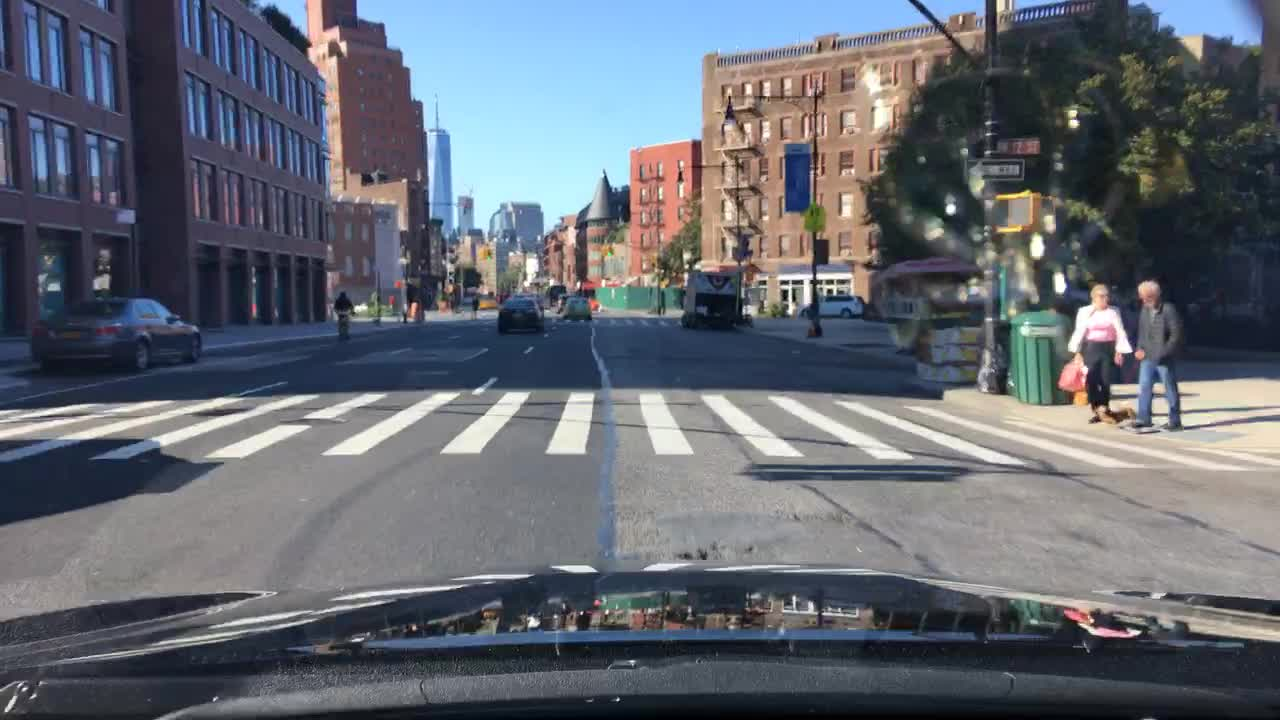bike: (332, 305, 355, 344)
car: (26, 290, 203, 374), (796, 292, 866, 320), (496, 296, 544, 333), (556, 295, 594, 323), (474, 287, 499, 311), (541, 283, 568, 305)
person: (1055, 280, 1136, 426), (1125, 275, 1185, 432), (468, 293, 481, 320)
rider: (329, 289, 358, 336)
traffic light: (987, 191, 1041, 230), (439, 284, 454, 295), (483, 242, 490, 262), (609, 241, 615, 259)
traffic sign: (958, 161, 1025, 182), (800, 200, 829, 233), (998, 137, 1040, 154)
truck: (676, 263, 754, 329)
